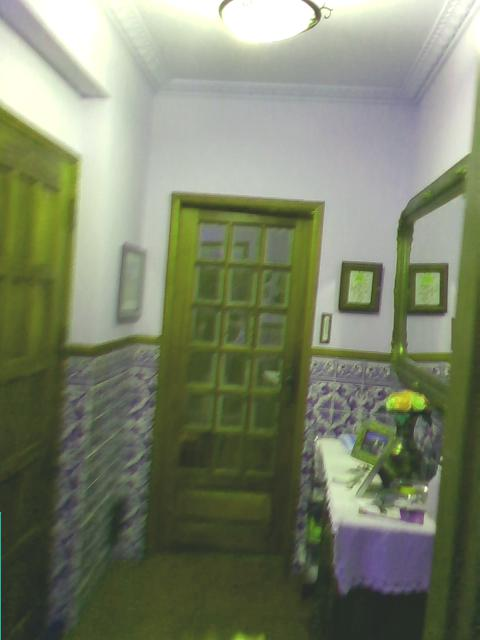closed_door: (146, 190, 322, 551)
